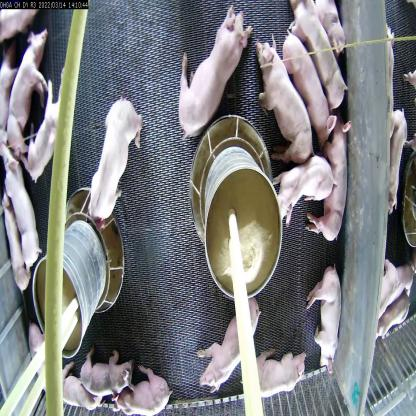Pig: (178, 2, 256, 140), (253, 36, 318, 166), (88, 87, 148, 223), (276, 23, 337, 148), (194, 287, 264, 393), (293, 0, 347, 115), (2, 141, 46, 278), (308, 115, 354, 240), (10, 22, 46, 164), (28, 70, 74, 171), (306, 264, 340, 376), (273, 157, 337, 211), (80, 345, 138, 401), (255, 335, 308, 395), (117, 362, 173, 416), (388, 101, 408, 215)
